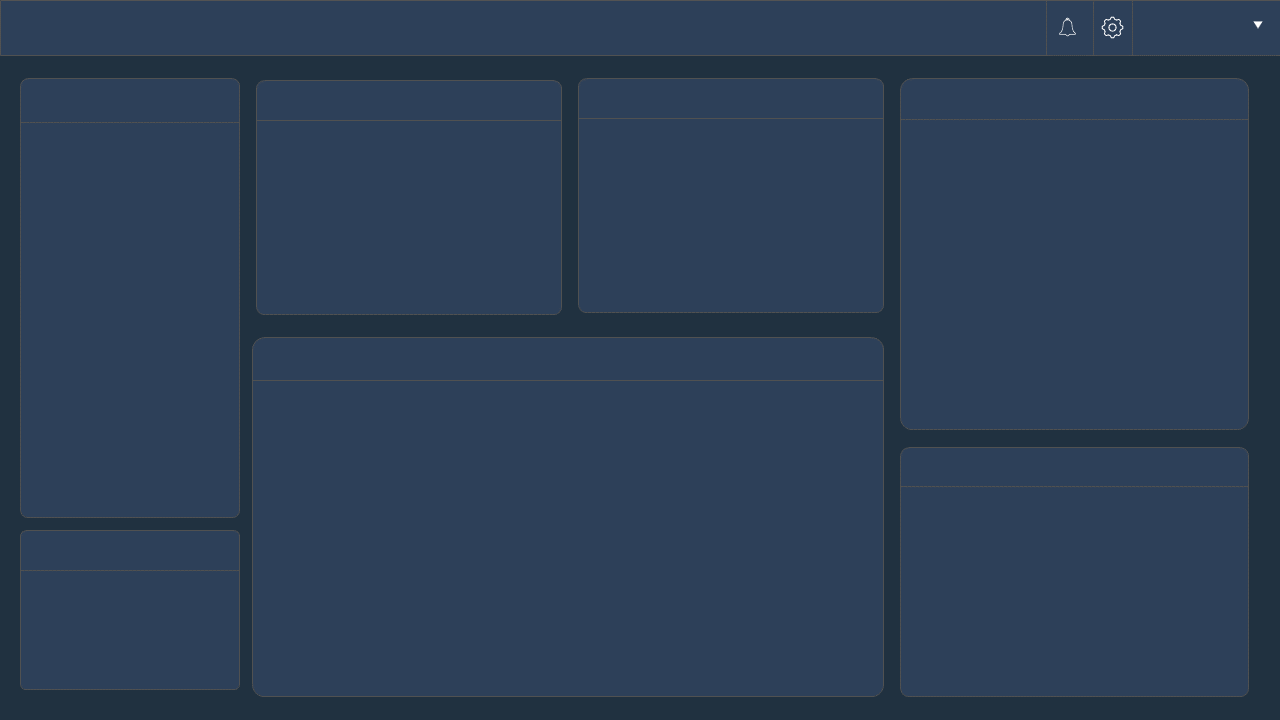

This screenshot's page, from the dashboard's own definition file:
{"tool":"powerbi","page":{"name":"Page 1","canvas":[1280,720],"ordinal":0},"visuals":[{"type":"card","fields":{"Values":["Sum(fPagamentos.Amount Paid)"]},"box":[601.5,115.5,258.4,181.4],"z":0},{"type":"card","fields":{"Values":["Sum(fRecebimentos.Amount Received)"]},"box":[272.7,113.3,289.2,186.9],"z":1000},{"type":"slicer","fields":{"Values":["calenderTbl.FY"]},"box":[16.5,80.3,218.8,80.3],"z":2000},{"type":"slicer","fields":{"Values":["calenderTbl.Fiscal Qtr"]},"box":[24.2,171.5,200.1,63.8],"z":3000},{"type":"slicer","fields":{"Values":["calenderTbl.Month"]},"box":[24.2,271.6,200.1,74.8],"z":4000},{"type":"multiRowCard","fields":{"Values":["Measure.MostExpGroup"]},"box":[938,571.8,298,93.5],"z":5000},{"type":"multiRowCard","fields":{"Values":["dPlanoContas.Sub Category","Measure.Expence Total","dPlanoContas.Type"]},"box":[256.2,380.5,614.7,307.9],"z":6000},{"type":"card","fields":{"Values":["Measure.User Name"]},"box":[1137,3.3,132,40.7],"z":7000},{"type":"pageNavigator","box":[224.1,11.4,600.6,50],"z":8000},{"type":"card","fields":{"Values":["MEasure.Notification ON"]},"box":[923.2,128.9,298.2,207],"z":9000}]}

Visuals, with their boxes on the page's 1280x720 design canvas (x1, y1, x2, y2). These are canvas units, not pixel positions in the 1280x720 screenshot, which may show the page scaled, cropped or inside an application window:
card - Sum(fPagamentos.Amount Paid): <box>602,116,860,297</box>
card - Sum(fRecebimentos.Amount Received): <box>273,113,562,300</box>
slicer - calenderTbl.FY: <box>16,80,235,161</box>
slicer - calenderTbl.Fiscal Qtr: <box>24,172,224,235</box>
slicer - calenderTbl.Month: <box>24,272,224,346</box>
multiRowCard - Measure.MostExpGroup: <box>938,572,1236,665</box>
multiRowCard - dPlanoContas.Sub Category x Measure.Expence Total: <box>256,380,871,688</box>
card - Measure.User Name: <box>1137,3,1269,44</box>
pageNavigator: <box>224,11,825,61</box>
card - MEasure.Notification ON: <box>923,129,1221,336</box>
